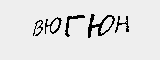В: (31, 17, 44, 39)
Г: (64, 12, 86, 39)
Н: (116, 13, 130, 34)
Ю: (87, 11, 115, 42), (43, 12, 61, 36)
